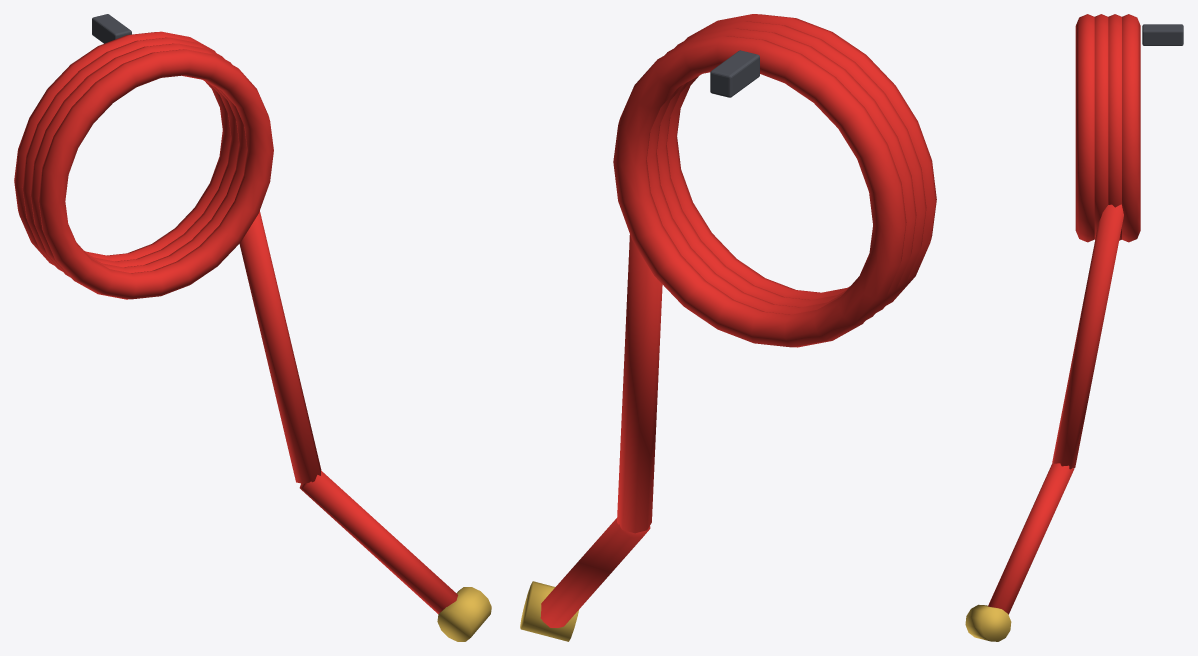
File: Wall_Hose.fbx
The picture shows the model from 3 angles, left to right: view 1: azimuth 30°, elevation 25°; view 2: azimuth 150°, elevation 25°; view 3: azimuth 270°, elevation 25°; orthographic projection. The views are drawn at different scales.
Visible parts, largest first — view 1: Wall_Hose; view 2: Wall_Hose; view 3: Wall_Hose.
Boxes of the visible parts, x1=… form: Wall_Hose: x1=14, y1=14, x2=491, y2=641; Wall_Hose: x1=520, y1=14, x2=936, y2=641; Wall_Hose: x1=965, y1=14, x2=1183, y2=641.
Size of the model in its own units: 1.12 by 1.66 by 0.637.
